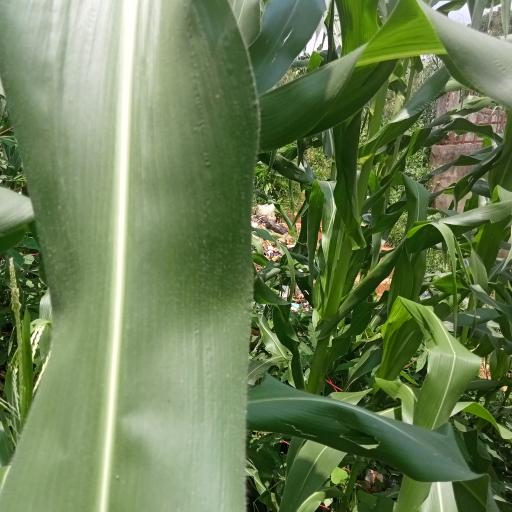Corn_Brown_Spots: (0, 0, 273, 512)
